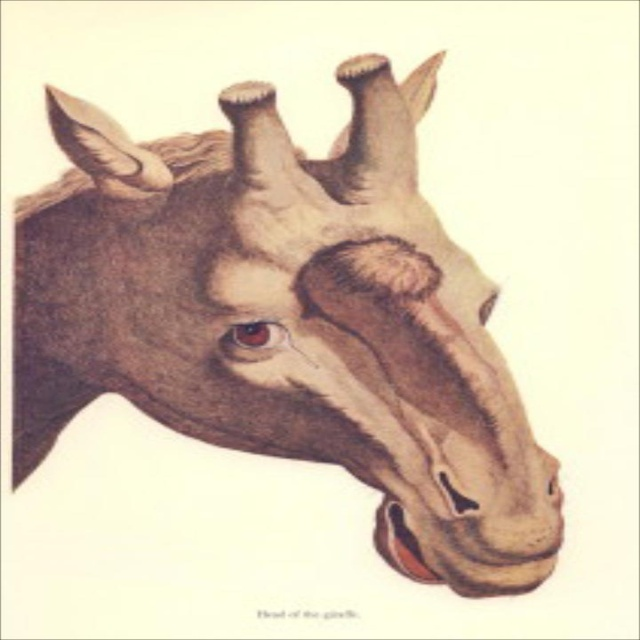Giraffe: (0, 43, 561, 595)
